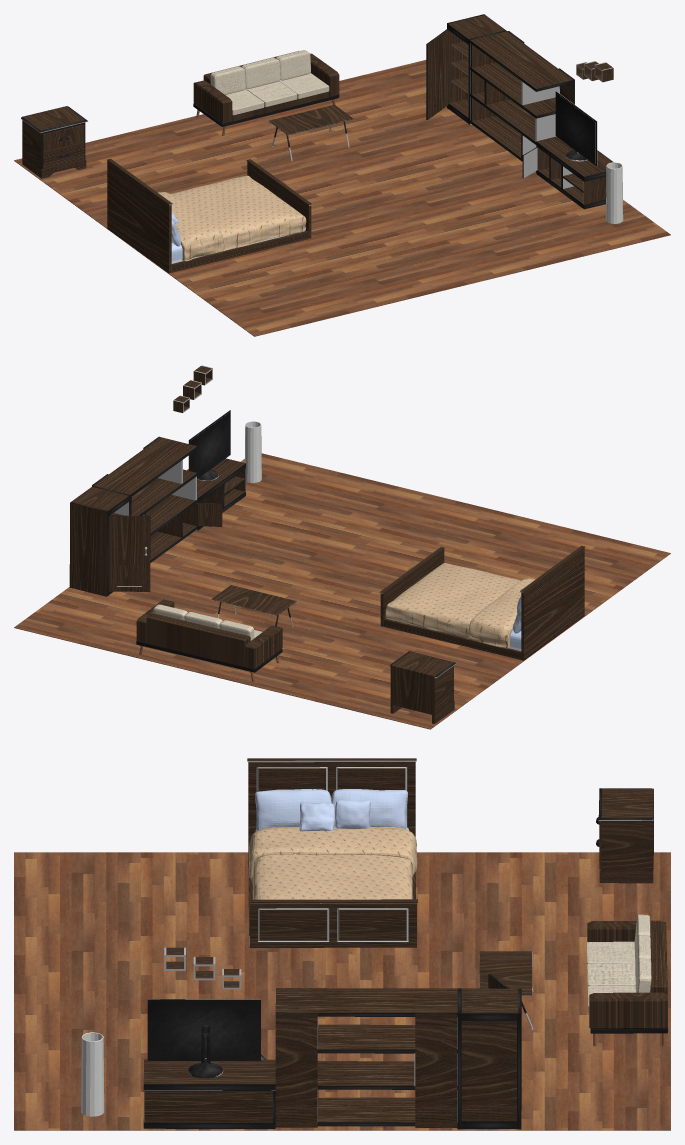
File: T2 Set 2 Pos 5.glb
3 renders of one model, top to bottom at view 1: azimuth 30°, elevation 25°; view 2: azimuth 150°, elevation 25°; view 3: azimuth 270°, elevation 25°, orthographic. The views are drawn at different scales.
Size of the model in its own units: 0.2923 by 0.0855 by 0.292.
Materials: 9 (8 with a texture image).
